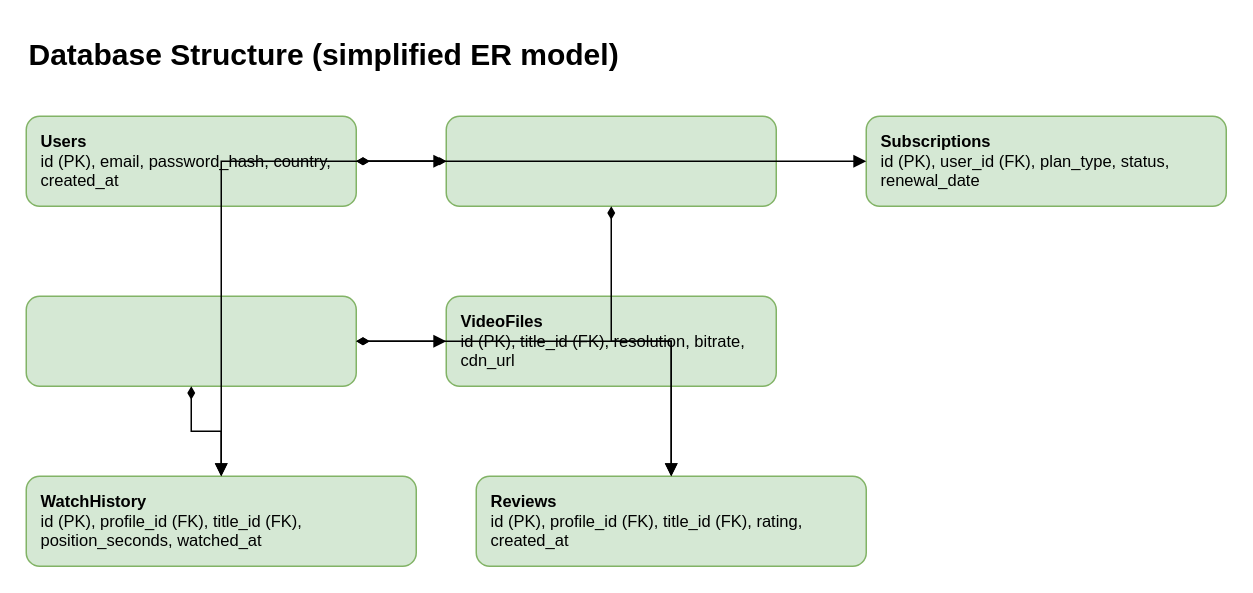
The diagram is 1253 pixels wide and 593 high, and some of its shapes have lost their labels. Each missing label, with the centre of its shape:
Profiles id (PK), user_id (FK), name, maturity_level: point 610,160
Titles id (PK), title, genre, description, release_year: point 190,340
